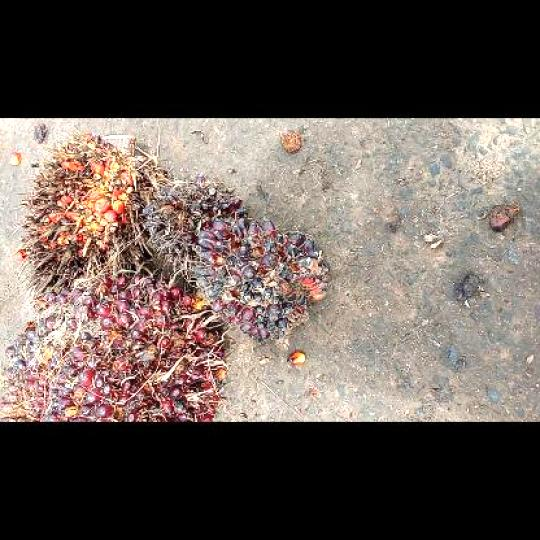masak: (0, 273, 228, 419)
terlalu masak: (15, 132, 162, 310)
